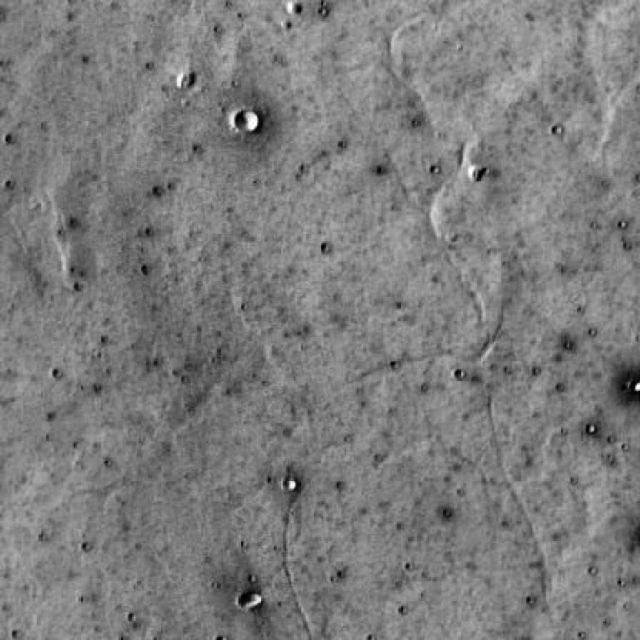crater: (235, 111, 260, 134), (241, 592, 261, 611)
